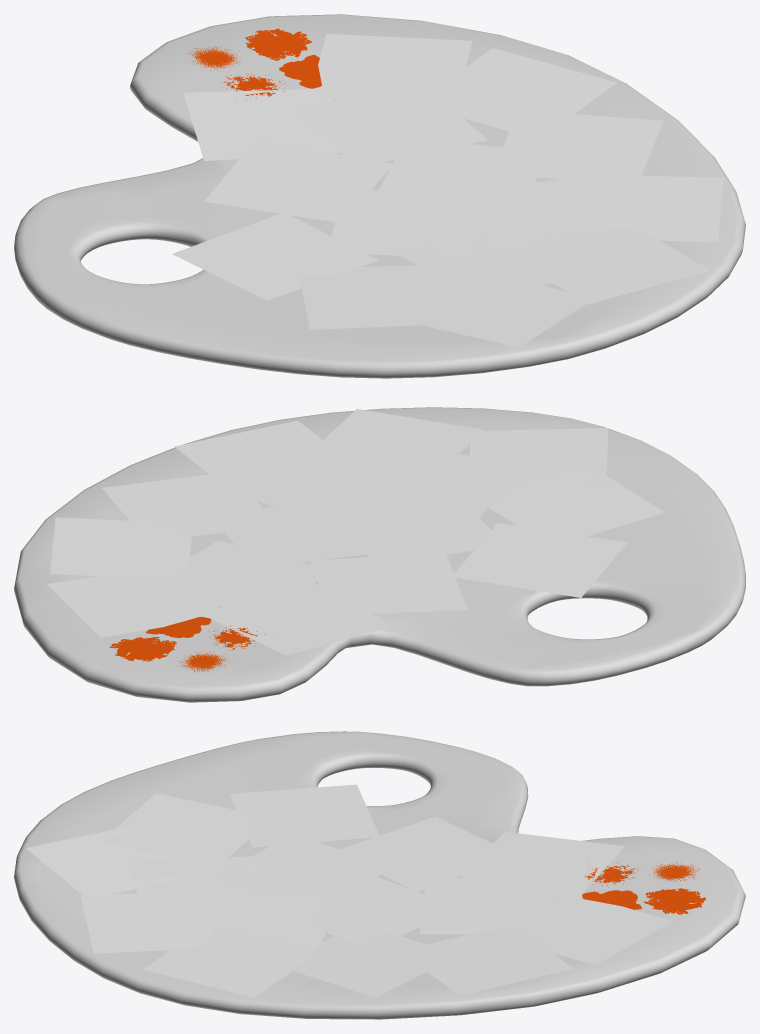
File: Palette_unity.fbx
The picture shows the model from 3 angles, top to bottom: view 1: azimuth 30°, elevation 25°; view 2: azimuth 150°, elevation 25°; view 3: azimuth 270°, elevation 25°; orthographic projection. The views are drawn at different scales.
Parts seen in each view (by area): view 1: ColorMesh, palette; view 2: ColorMesh, palette; view 3: ColorMesh, palette.
Boxes of the visible parts, x1,y1,x2,y2 form: ColorMesh: [172, 28, 723, 347]; palette: [14, 14, 745, 378]; ColorMesh: [47, 409, 664, 672]; palette: [14, 407, 745, 702]; ColorMesh: [26, 784, 706, 997]; palette: [14, 731, 745, 1019].
Bounding box in the file's own units: 0.2998 × 0.0144 × 0.3292.
